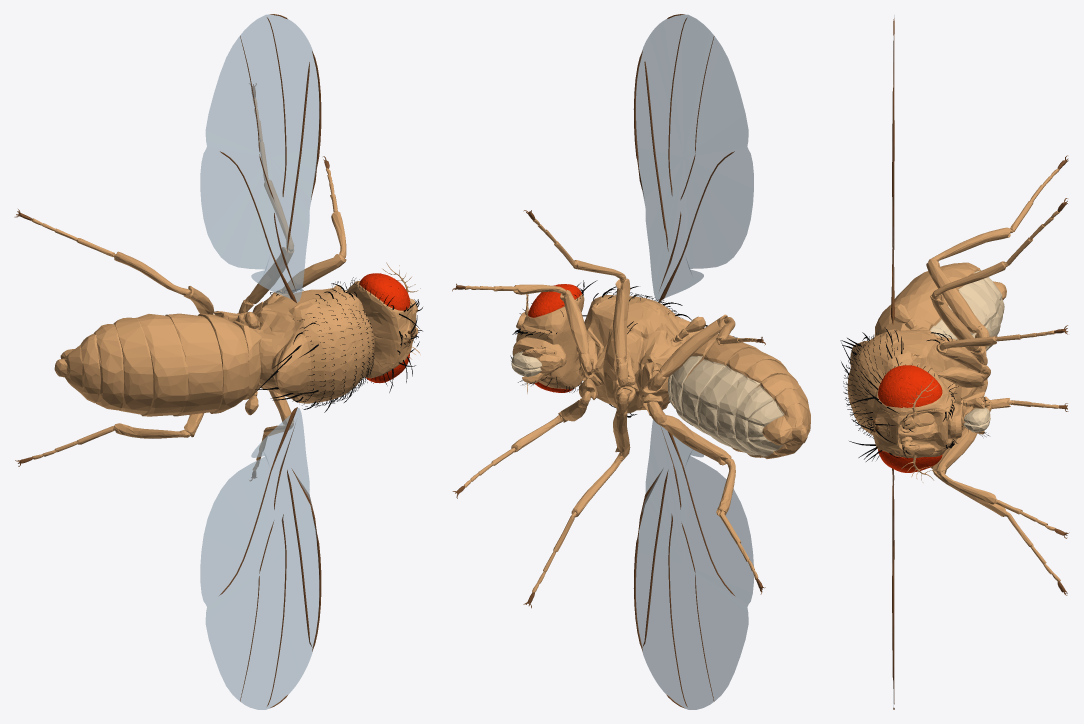
The model's file is flybody.glb.
3 renders of one model, left to right at view 1: azimuth 30°, elevation 25°; view 2: azimuth 150°, elevation 25°; view 3: azimuth 270°, elevation 25°, orthographic.
Parts seen in each view (by area): view 1: mesh_wing_left_membrane2, mesh_wing_right_membrane2, mesh_thorax0, mesh_abdomen_30, mesh_abdomen_40, mesh_head1, mesh_abdomen_50, mesh_abdomen_20, mesh_wing_right_brown0, mesh_abdomen_60, mesh_wing_left_brown0, mesh_head_red2 (+8 smaller); view 2: mesh_wing_left_membrane2, mesh_wing_right_membrane2, mesh_thorax0, mesh_head1, mesh_wing_right_brown0, mesh_wing_left_brown0, mesh_abdomen_4_lower1, mesh_abdomen_5_lower1, mesh_abdomen_80, mesh_femur_T3_right0, mesh_femur_T2_left0, mesh_abdomen_3_lower1 (+14 smaller); view 3: mesh_thorax0, mesh_head1, mesh_head_red2, mesh_femur_T3_left0, mesh_abdomen_20, mesh_thorax_black3, mesh_femur_T2_left0, mesh_wing_left_brown0, mesh_abdomen_4_lower1, mesh_femur_T1_right0, mesh_tibia_T3_left0, mesh_rostrum0 (+13 smaller).
Boxes of the visible parts, x1,y1,x2,y2 form: mesh_wing_left_membrane2: (200,14,319,302); mesh_wing_right_membrane2: (200,408,319,709); mesh_thorax0: (237,287,374,403); mesh_abdomen_30: (165,313,222,416); mesh_abdomen_40: (138,314,188,416); mesh_head1: (347,281,416,378); mesh_abdomen_50: (113,317,153,414); mesh_abdomen_20: (198,313,248,413); mesh_wing_right_brown0: (219,407,321,708); mesh_abdomen_60: (93,324,123,410); mesh_wing_left_brown0: (220,14,321,302); mesh_head_red2: (359,273,410,383); mesh_wing_left_membrane2: (635,14,753,301); mesh_wing_right_membrane2: (635,414,753,709); mesh_thorax0: (576,295,702,413); mesh_head1: (516,294,584,389); mesh_wing_right_brown0: (633,410,735,708); mesh_wing_left_brown0: (633,14,734,302); mesh_abdomen_4_lower1: (697,365,742,448); mesh_abdomen_5_lower1: (716,374,759,455); mesh_abdomen_80: (762,403,809,450); mesh_femur_T3_right0: (647,401,731,465); mesh_femur_T2_left0: (613,278,630,387); mesh_abdomen_3_lower1: (681,359,724,435); mesh_thorax0: (847,327,972,435); mesh_head1: (872,374,952,457); mesh_head_red2: (878,365,942,472); mesh_femur_T3_left0: (926,260,989,348); mesh_abdomen_20: (874,294,947,336); mesh_thorax_black3: (840,327,952,438); mesh_femur_T2_left0: (930,294,987,365); mesh_wing_left_brown0: (891,18,894,324); mesh_abdomen_4_lower1: (958,282,1000,350); mesh_femur_T1_right0: (936,396,992,474); mesh_tibia_T3_left0: (928,227,1010,261); mesh_rostrum0: (948,398,984,439).
Bounding box in the file's own units: 0.3014 × 0.6109 × 0.1844.
